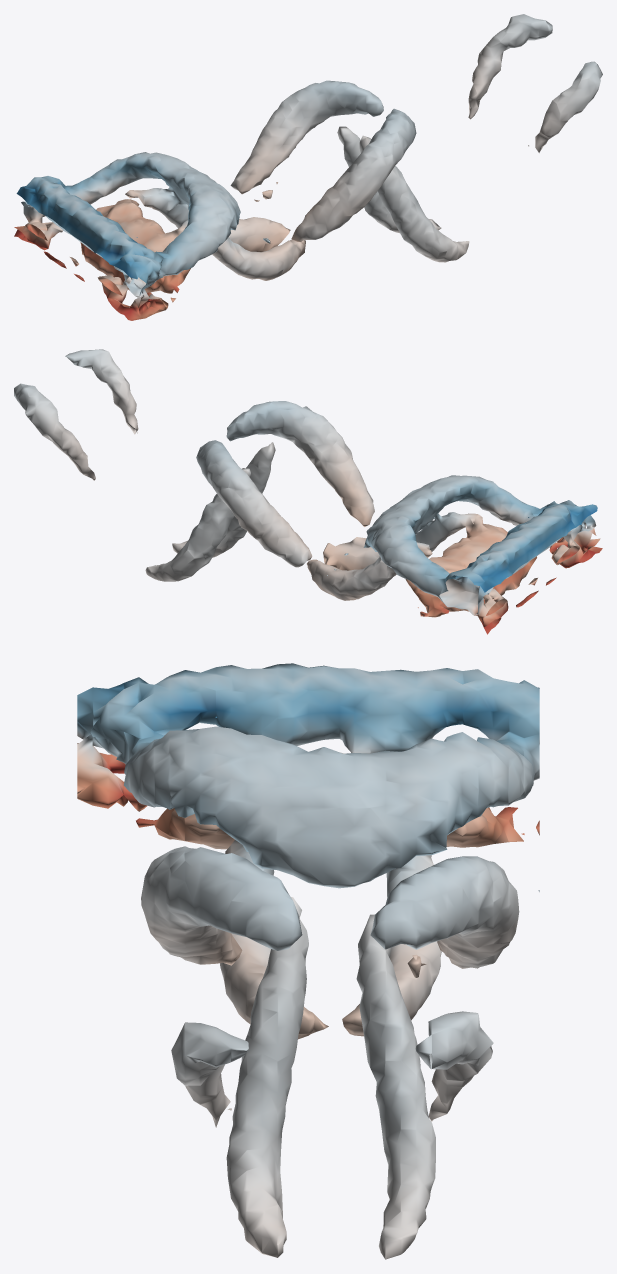
3 views of the same model, one above another, from view 1: azimuth 30°, elevation 25°; view 2: azimuth 150°, elevation 25°; view 3: azimuth 270°, elevation 25° (orthographic). The views are drawn at different scales.
Size of the model in its own units: 6.25 by 2.1 by 2.5.
